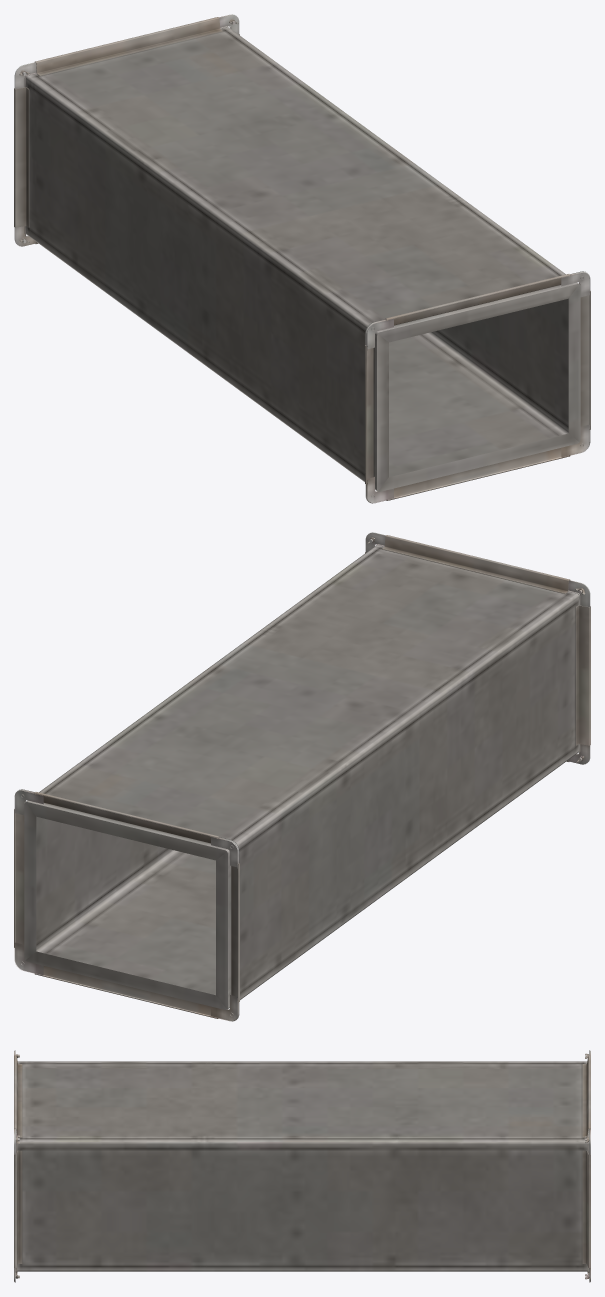
File: duct_square.glb
3 renders of one model, top to bottom at view 1: azimuth 30°, elevation 25°; view 2: azimuth 150°, elevation 25°; view 3: azimuth 270°, elevation 25°, orthographic. The views are drawn at different scales.
Parts seen in each view (by area): view 1: duct_square; view 2: duct_square; view 3: duct_square.
Boxes of the visible parts, bbox=[...] form: duct_square: bbox=[14, 14, 590, 503]; duct_square: bbox=[14, 532, 590, 1021]; duct_square: bbox=[14, 1050, 590, 1282].
Size of the model in its own units: 0.6634 by 0.5126 by 1.8.
Materials: 2 (2 with a texture image).
